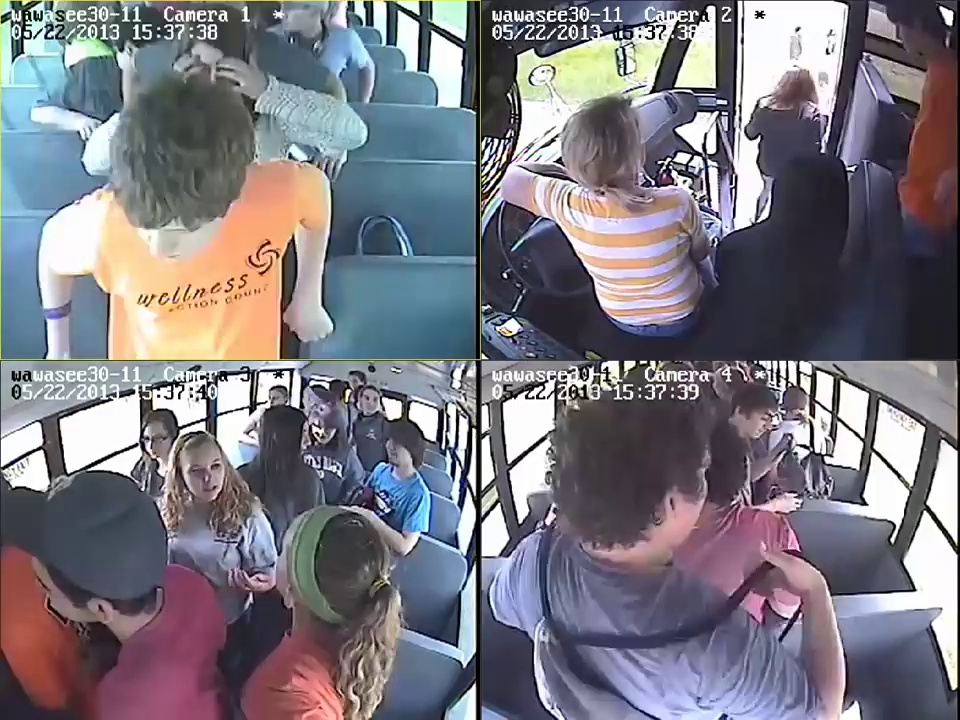face: (182, 446, 228, 501), (142, 418, 170, 460), (383, 431, 413, 467), (312, 415, 338, 442), (749, 404, 770, 437), (363, 388, 379, 413)
